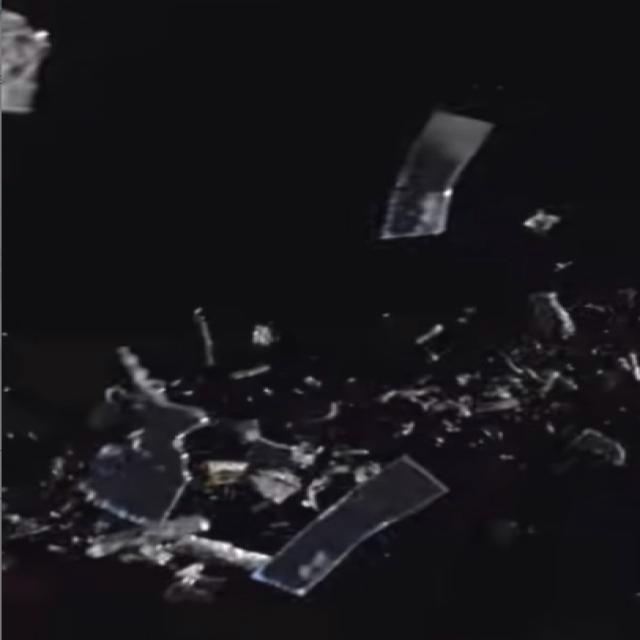large_debris: (34, 322, 234, 582), (221, 418, 457, 607), (361, 88, 503, 256), (535, 406, 638, 484), (495, 280, 599, 356)
